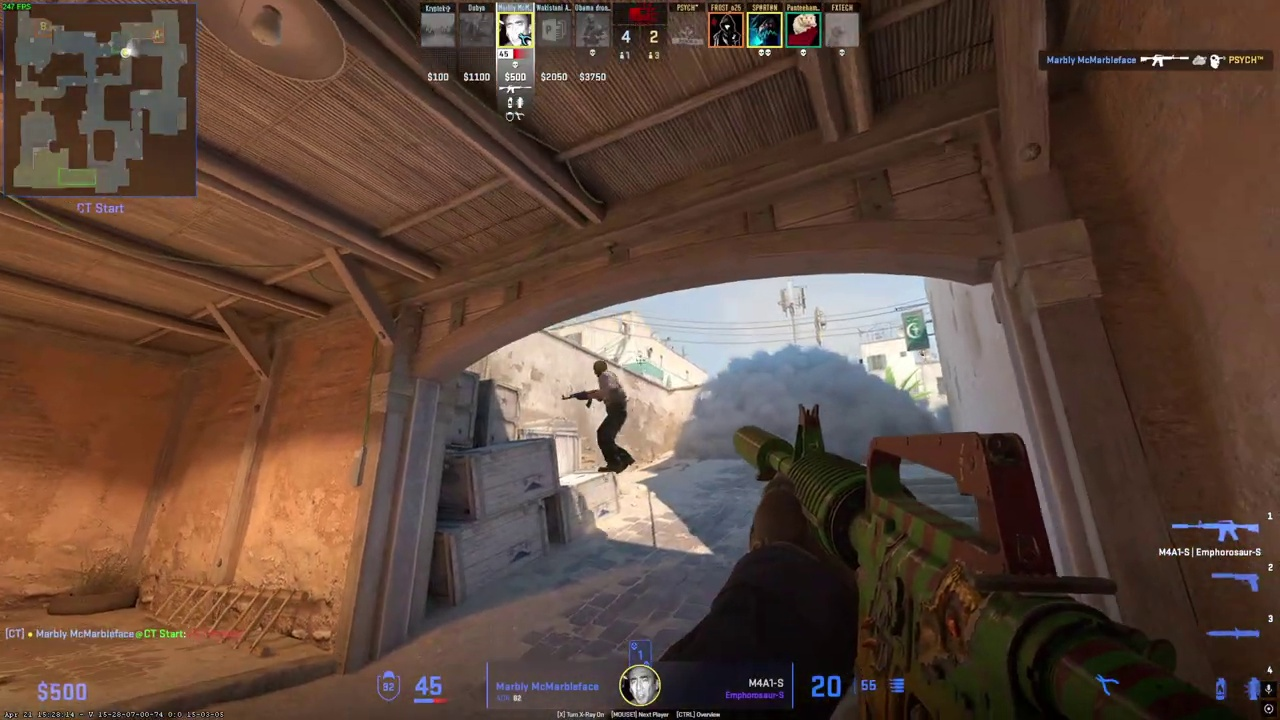Terrorist: (588, 360, 635, 474)
